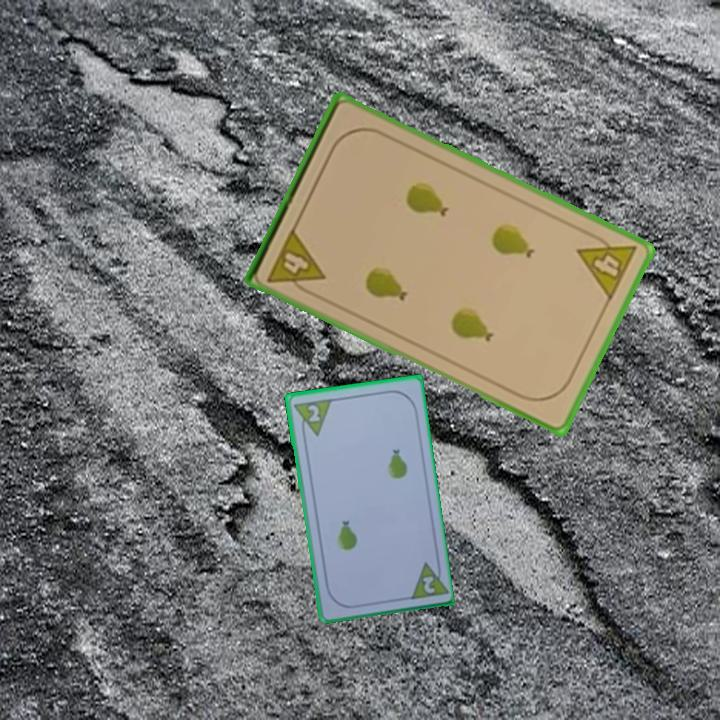2p: (290, 395, 334, 440), (419, 572, 438, 597)
4p: (573, 226, 640, 304), (264, 224, 328, 299)
